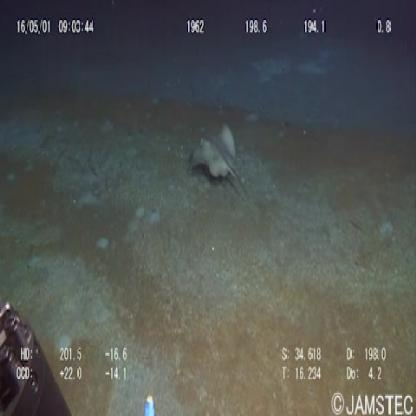Bio: (190, 120, 250, 199)
Rov: (1, 299, 76, 416)
